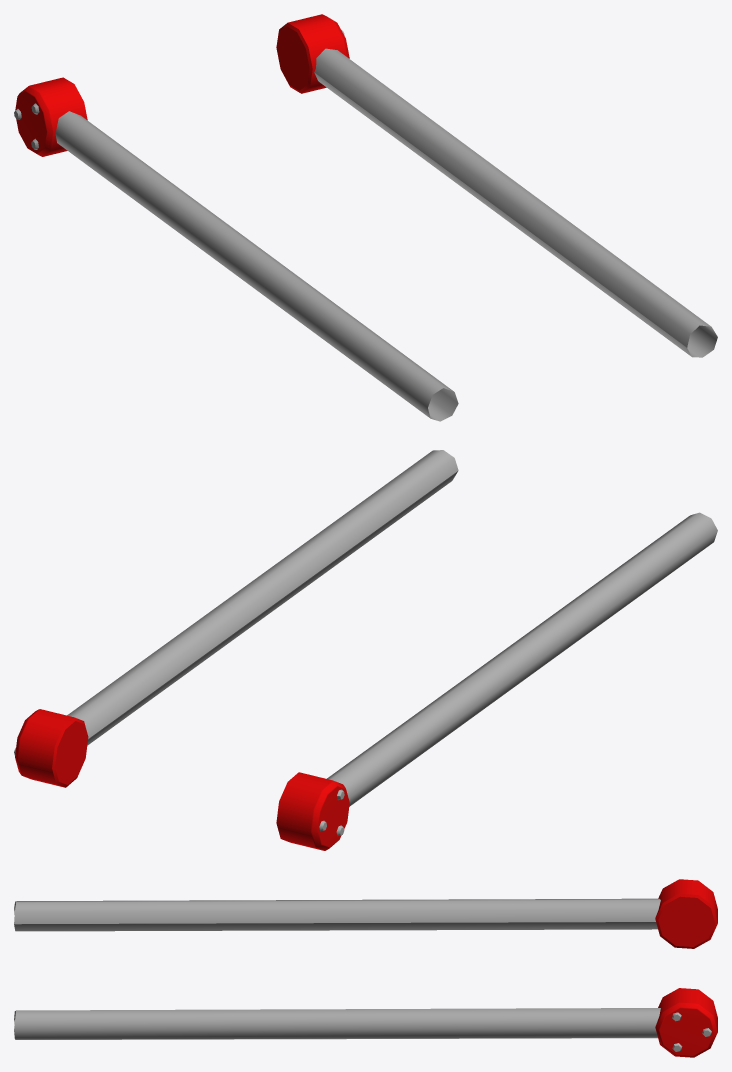
Rendered from ExcavatorMachine_Cylinder03_01a_snaps005.fbx.
The picture shows the model from 3 angles, top to bottom: view 1: azimuth 30°, elevation 25°; view 2: azimuth 150°, elevation 25°; view 3: azimuth 270°, elevation 25°; orthographic projection. The views are drawn at different scales.
Visible parts, largest first — view 1: ExcavatorMachine_Cylinder03_01a_snaps005; view 2: ExcavatorMachine_Cylinder03_01a_snaps005; view 3: ExcavatorMachine_Cylinder03_01a_snaps005.
Boxes of the visible parts, <box> form: ExcavatorMachine_Cylinder03_01a_snaps005: <box>14,14,717,421</box>; ExcavatorMachine_Cylinder03_01a_snaps005: <box>14,450,717,850</box>; ExcavatorMachine_Cylinder03_01a_snaps005: <box>14,879,717,1057</box>.
Bounding box in the file's own units: 101 × 20 × 231.
